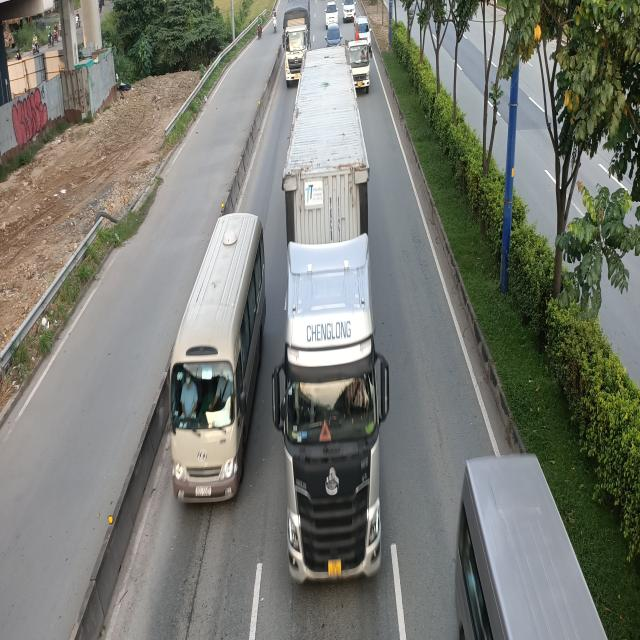coach: (170, 213, 265, 502)
container: (272, 49, 389, 591)
truck: (281, 0, 310, 86)
van: (448, 456, 606, 640)
